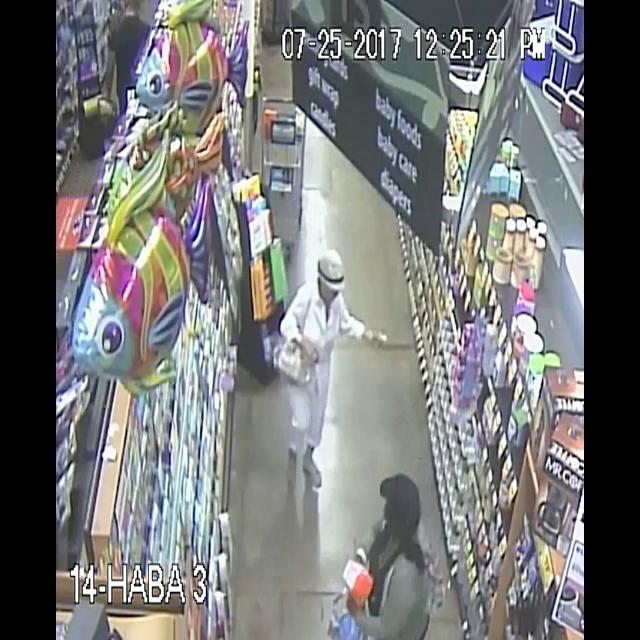Product: (344, 547, 374, 604)
normal: (246, 212, 398, 476)
shoplifting: (318, 449, 441, 640)
